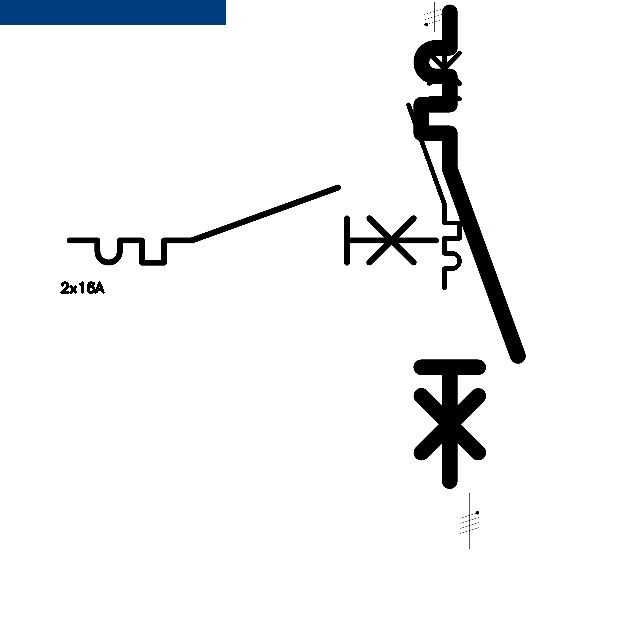interruptor_termomagnetico: (409, 0, 529, 493), (60, 178, 445, 272), (402, 31, 466, 293)
